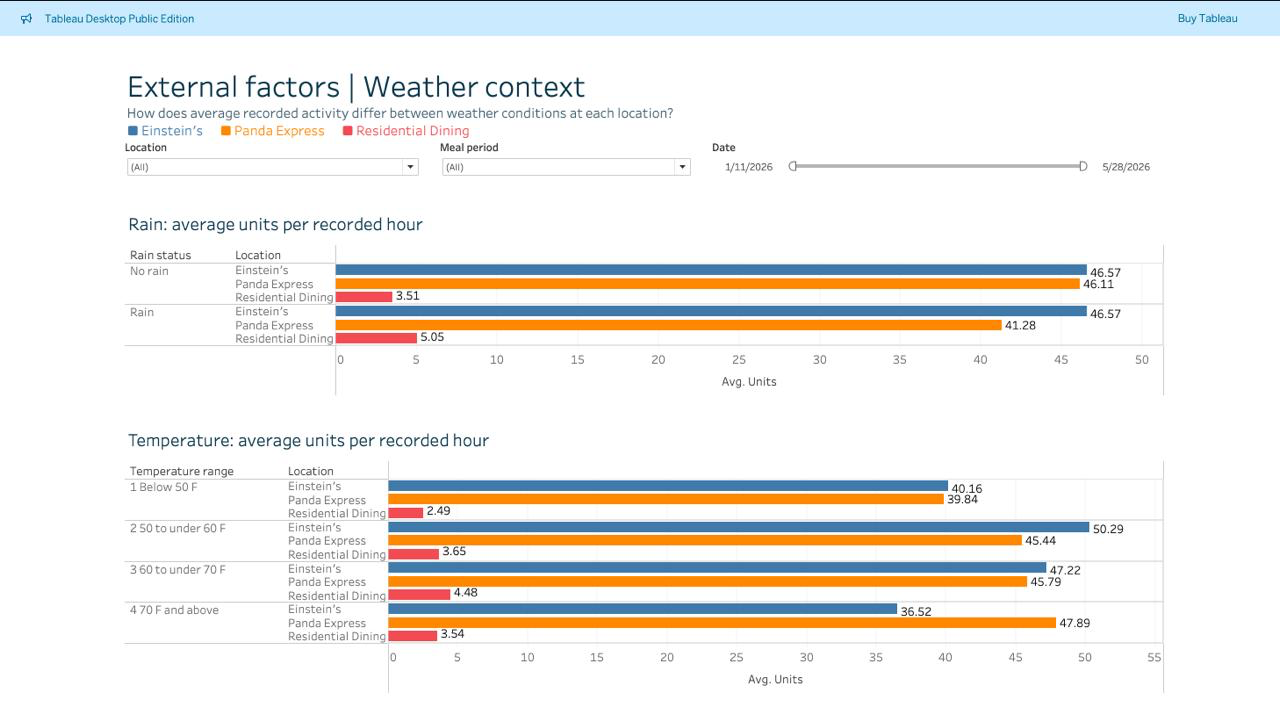

What the dashboard file says about the page in this screenshot:
{"tool":"tableau","page":{"name":"05 Weather context","canvas":[1200,780],"ordinal":4},"visuals":[{"type":"text","box":[24.4,9.2,1151.3,40.4]},{"type":"text","box":[24.4,49.6,1151.3,19.3]},{"type":"text","box":[24.4,68.8,1151.3,19.3]},{"type":"filter","title":"05 Rain","param":"[federated.servesmart_hourly].[none:Location:nk]","box":[24.4,89,328.1,53.2]},{"type":"filter","title":"05 Rain","param":"[federated.servesmart_hourly].[none:DayPart:nk]","box":[373.1,89,281.3,53.2]},{"type":"filter","title":"05 Rain","param":"[federated.servesmart_hourly].[none:Date:qk]","box":[675,89,500.6,53.2]},{"type":"worksheet","title":"05 Rain","mark":"Bar","rows":["RainCondition","Location"],"cols":["Units"],"box":[16.9,157.8,1166.3,224.8]},{"type":"worksheet","title":"05 Temperature","mark":"Bar","rows":["TemperatureBand","Location"],"cols":["Units"],"box":[16.9,399.2,1166.3,316.6]},{"type":"text","box":[24.4,727.7,1151.3,45]}]}

Visuals, with their boxes on the page's 1200x780 design canvas (x1, y1, x2, y2). These are canvas units, not pixel positions in the 1280x715 screenshot, which may show the page scaled, cropped or inside an application window:
text: left=24, top=9, right=1176, bottom=50
text: left=24, top=50, right=1176, bottom=69
text: left=24, top=69, right=1176, bottom=88
"05 Rain" filter: left=24, top=89, right=352, bottom=142
"05 Rain" filter: left=373, top=89, right=654, bottom=142
"05 Rain" filter: left=675, top=89, right=1176, bottom=142
"05 Rain" worksheet (Bar marks): left=17, top=158, right=1183, bottom=383
"05 Temperature" worksheet (Bar marks): left=17, top=399, right=1183, bottom=716
text: left=24, top=728, right=1176, bottom=773
